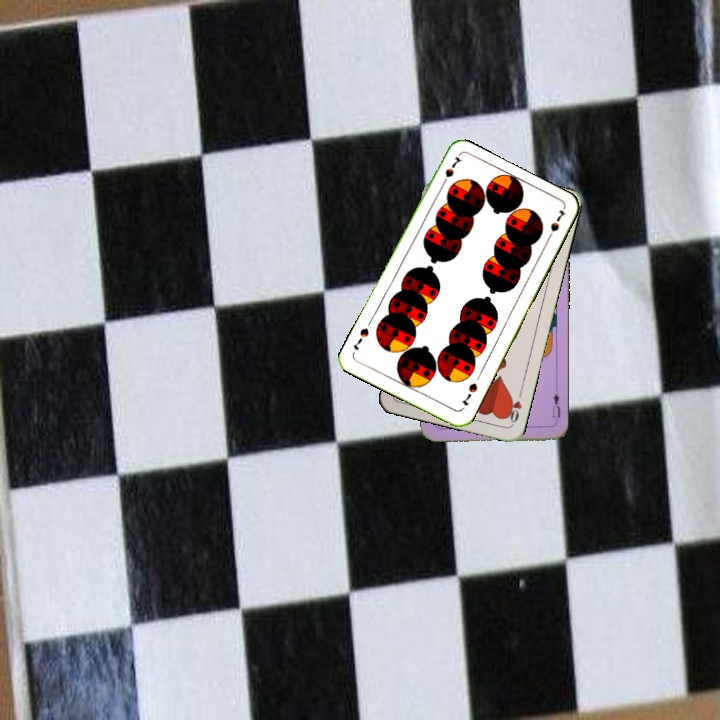EU: (548, 385, 563, 426)
HO: (502, 387, 525, 427)
S7: (437, 153, 464, 190), (458, 379, 480, 408)
